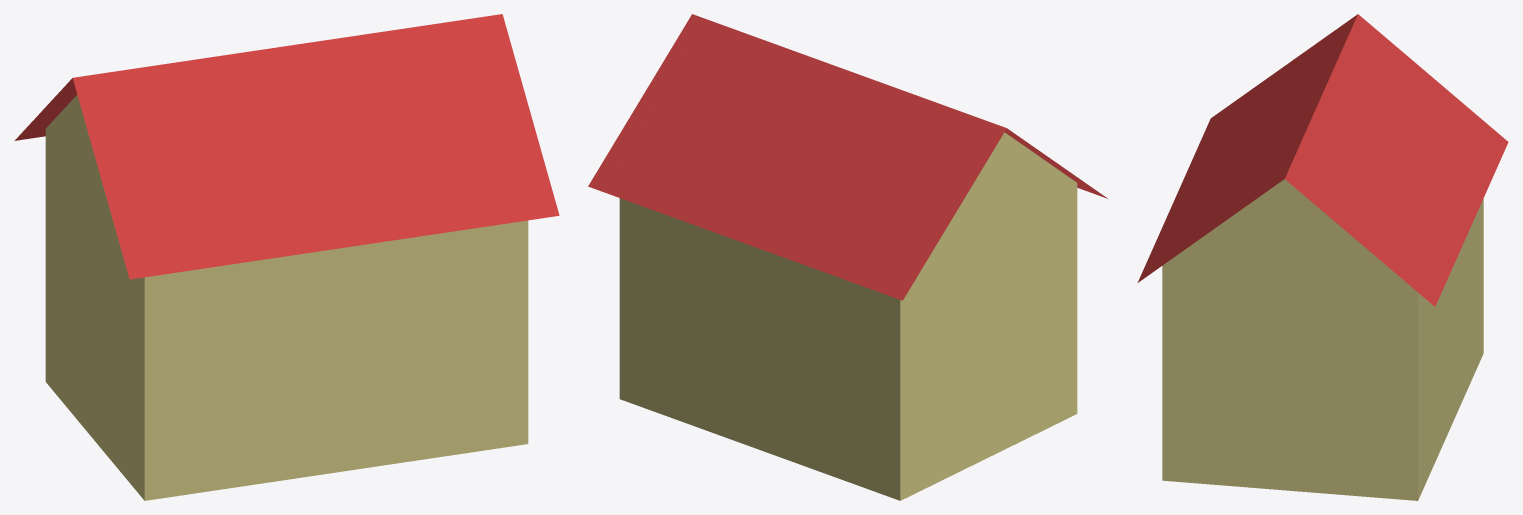
3 renders of one model, left to right at view 1: azimuth 30°, elevation 25°; view 2: azimuth 150°, elevation 25°; view 3: azimuth 270°, elevation 25°, orthographic. The views are drawn at different scales.
Bounding box in the file's own units: 15.61 × 12.98 × 12.37.
